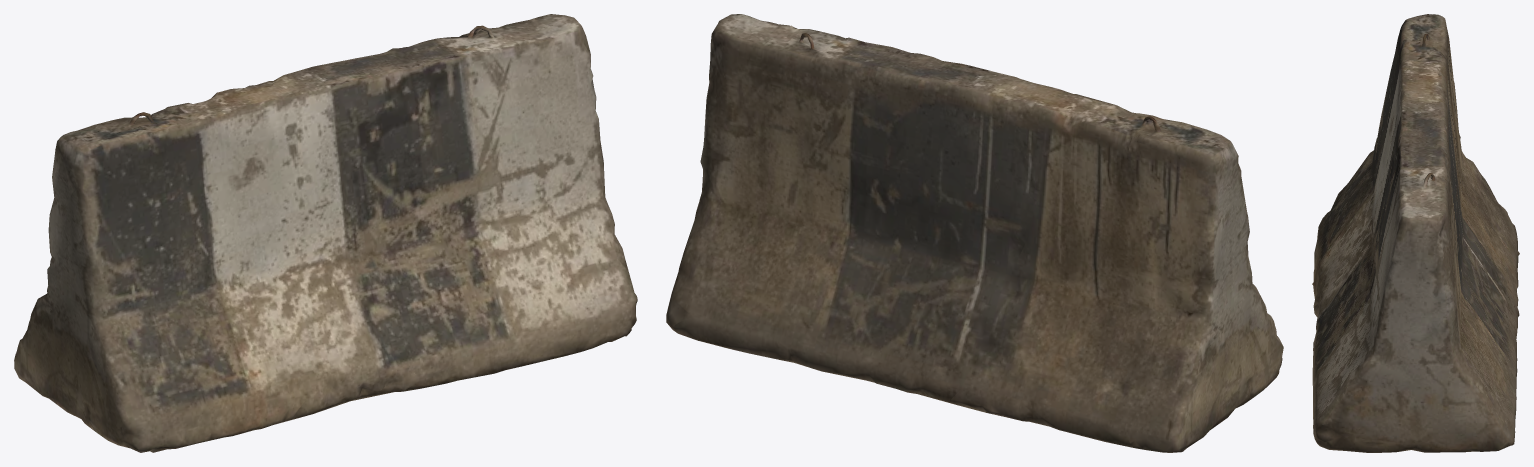
File: separateur_beton_lod0.glb
The picture shows the model from 3 angles, left to right: view 1: azimuth 30°, elevation 25°; view 2: azimuth 150°, elevation 25°; view 3: azimuth 270°, elevation 25°; orthographic projection. The views are drawn at different scales.
Parts seen in each view (by area): view 1: concrete_road_barrier; view 2: concrete_road_barrier; view 3: concrete_road_barrier.
Part boxes in pixels (x1,y1,x2,y2): concrete_road_barrier: (14, 14, 637, 452); concrete_road_barrier: (666, 14, 1283, 452); concrete_road_barrier: (1312, 14, 1519, 452).
Bounding box in the file's own units: 1.54 × 0.8294 × 0.6388.
Materials: 1 (1 with a texture image).
